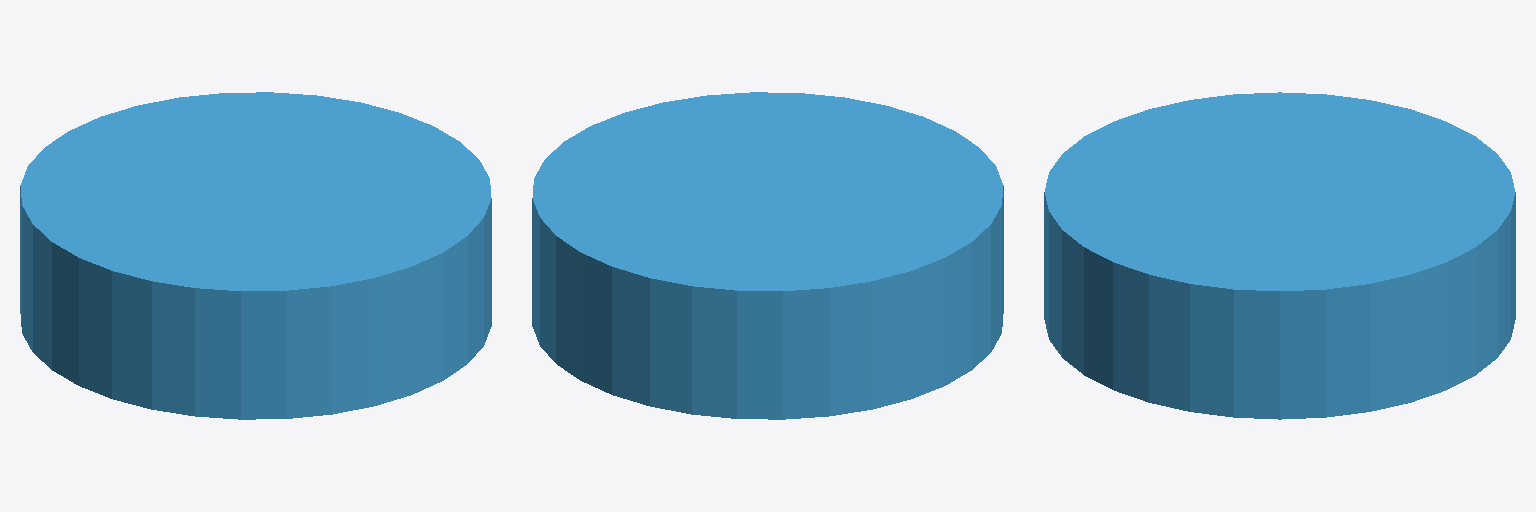
robot.urdf — wheel_drive:
<?xml version="1.0" ?>
<robot name="wheel_drive">

  <link name="mount" />

  <joint name="motor_joint" type="continuous">
    <parent link="mount" />
    <child link="wheel" />
    <origin xyz="0 0 0" rpy="0 0 0" />
    <axis xyz="0 0 1" />
  </joint>

  <link name="wheel">
    <visual>
      <geometry>
        <cylinder radius="0.05" length="0.03" />
      </geometry>
    </visual>
    <collision>
      <geometry>
        <cylinder radius="0.05" length="0.03" />
      </geometry>
    </collision>
    <inertial>
      <mass value="0.2" />
      <inertia ixx="0.00014" ixy="0" ixz="0" iyy="0.00014" iyz="0" izz="0.00025" />
    </inertial>
  </link>

</robot>

--- Render facts (derived) ---
3 views of the same robot in one strip: view 1: azimuth 30°, elevation 25°; view 2: azimuth 150°, elevation 25°; view 3: azimuth 270°, elevation 25° (orthographic).
Model wheel_drive with 2 links and 1 joints (1 continuous), rooted at mount, posed all joints at 0.
Links seen in each view (by area): view 1: wheel; view 2: wheel; view 3: wheel.
Link boxes in pixels (<box>): wheel: <box>20,92,491,419</box>; wheel: <box>532,92,1003,419</box>; wheel: <box>1044,92,1515,419</box>.
Bounding box of the posed robot: 0.1 × 0.1 × 0.03 m (x, y, z).
Geometry: primitives only (box / cylinder / sphere), no mesh files.
